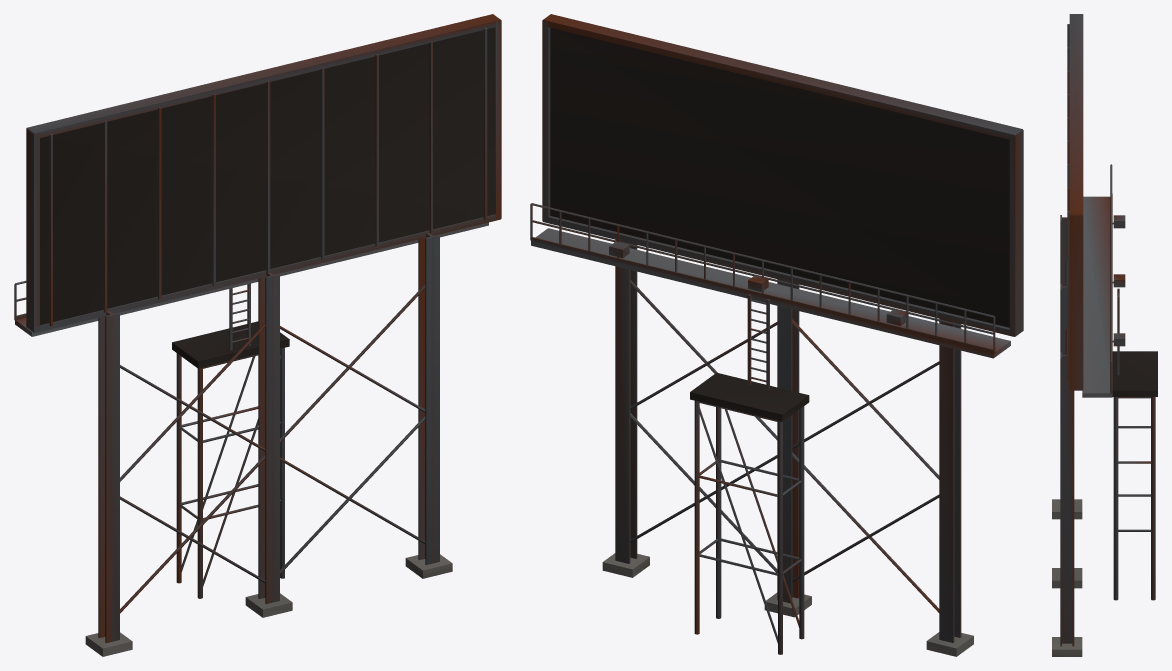
Rendered from TruckStopBillboard.glb.
The picture shows the model from 3 angles, left to right: view 1: azimuth 30°, elevation 25°; view 2: azimuth 150°, elevation 25°; view 3: azimuth 270°, elevation 25°; orthographic projection. The views are drawn at different scales.
Parts seen in each view (by area): view 1: TruckStopBillboard_ts_board, TruckStopBillboard_ts_steel, TruckStopBillboard_concrete, TruckStopBillboard_ts_grating; view 2: TruckStopBillboard_ts_board, TruckStopBillboard_ts_steel, TruckStopBillboard_ts_grating, TruckStopBillboard_concrete; view 3: TruckStopBillboard_ts_steel, TruckStopBillboard_ts_grating, TruckStopBillboard_ts_board, TruckStopBillboard_concrete.
Part boxes in pixels (box(x1,y1,x2,y2)): TruckStopBillboard_ts_board: box(40, 27, 494, 368); TruckStopBillboard_ts_steel: box(14, 14, 501, 643); TruckStopBillboard_concrete: box(85, 554, 452, 656); TruckStopBillboard_ts_grating: box(15, 222, 488, 336); TruckStopBillboard_ts_board: box(550, 28, 1009, 421); TruckStopBillboard_ts_steel: box(530, 14, 1023, 654); TruckStopBillboard_ts_grating: box(531, 228, 1010, 358); TruckStopBillboard_concrete: box(602, 553, 973, 656); TruckStopBillboard_ts_steel: box(1060, 14, 1155, 646); TruckStopBillboard_ts_grating: box(1082, 196, 1112, 397); TruckStopBillboard_ts_board: box(1112, 351, 1157, 396); TruckStopBillboard_concrete: box(1052, 499, 1082, 656).
Bounding box in the file's own units: 40.9 × 44.35 × 9.1.
